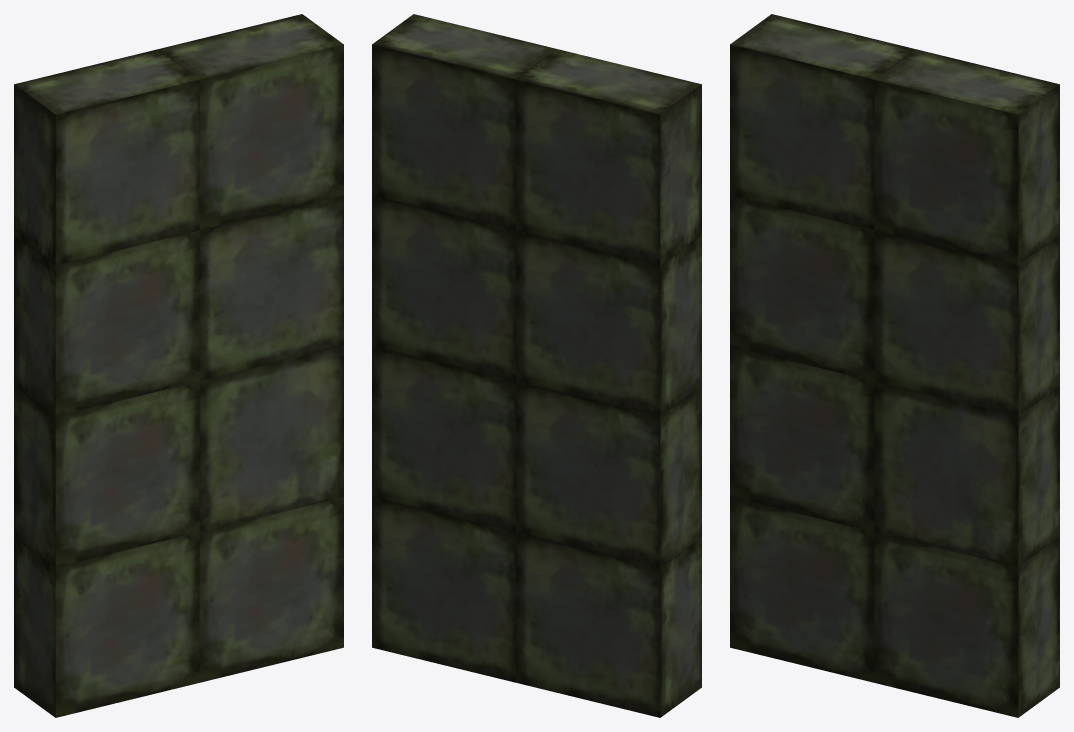
The model's file is giantdoor-frame.fbx.
3 views of the same model, side by side, from view 1: azimuth 30°, elevation 25°; view 2: azimuth 150°, elevation 25°; view 3: azimuth 330°, elevation 25° (orthographic).
Visible parts, largest first — view 1: pCube217; view 2: pCube217; view 3: pCube217.
Part boxes in pixels (box(x1,y1,x2,y2)): pCube217: box(14, 14, 343, 717); pCube217: box(372, 14, 701, 717); pCube217: box(730, 14, 1059, 717).
Size of the model in its own units: 400 by 800 by 100.
